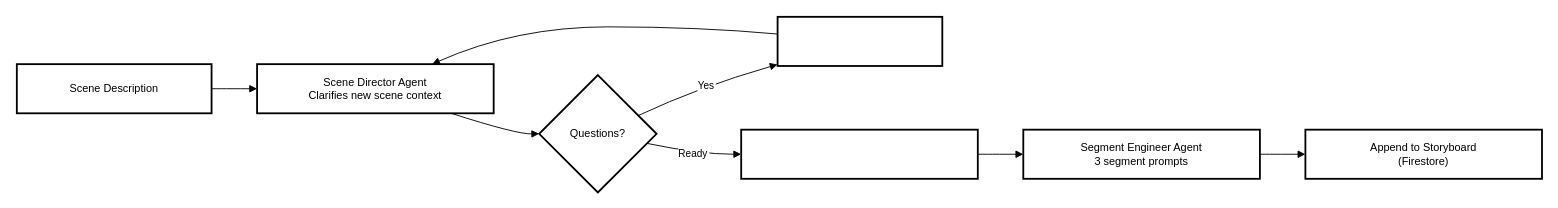
Some shapes in this 1558 by 208 pixel diagram are drawn without their labels. The shapes that lost their labels are listed below. From the top down, each one's centre as x and y in pixels, then its label:
(859,40): User Answers
(859,153): Scene Writer Agent Generates title + summary
